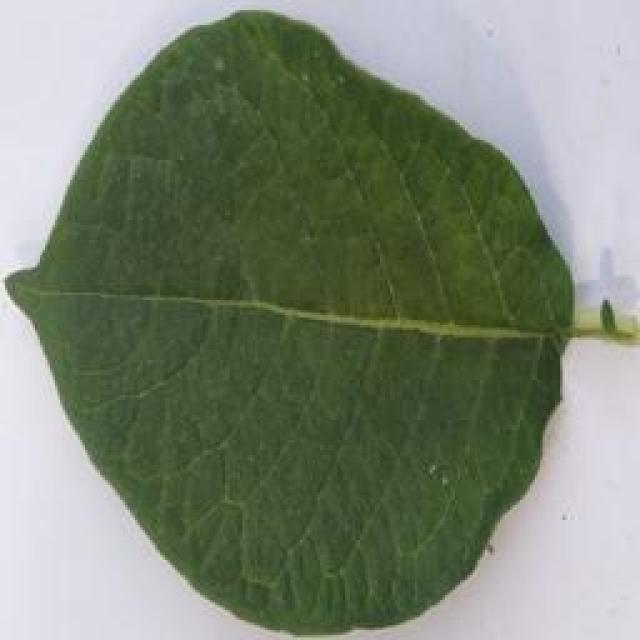Potato_Healthy: (2, 3, 627, 633)
